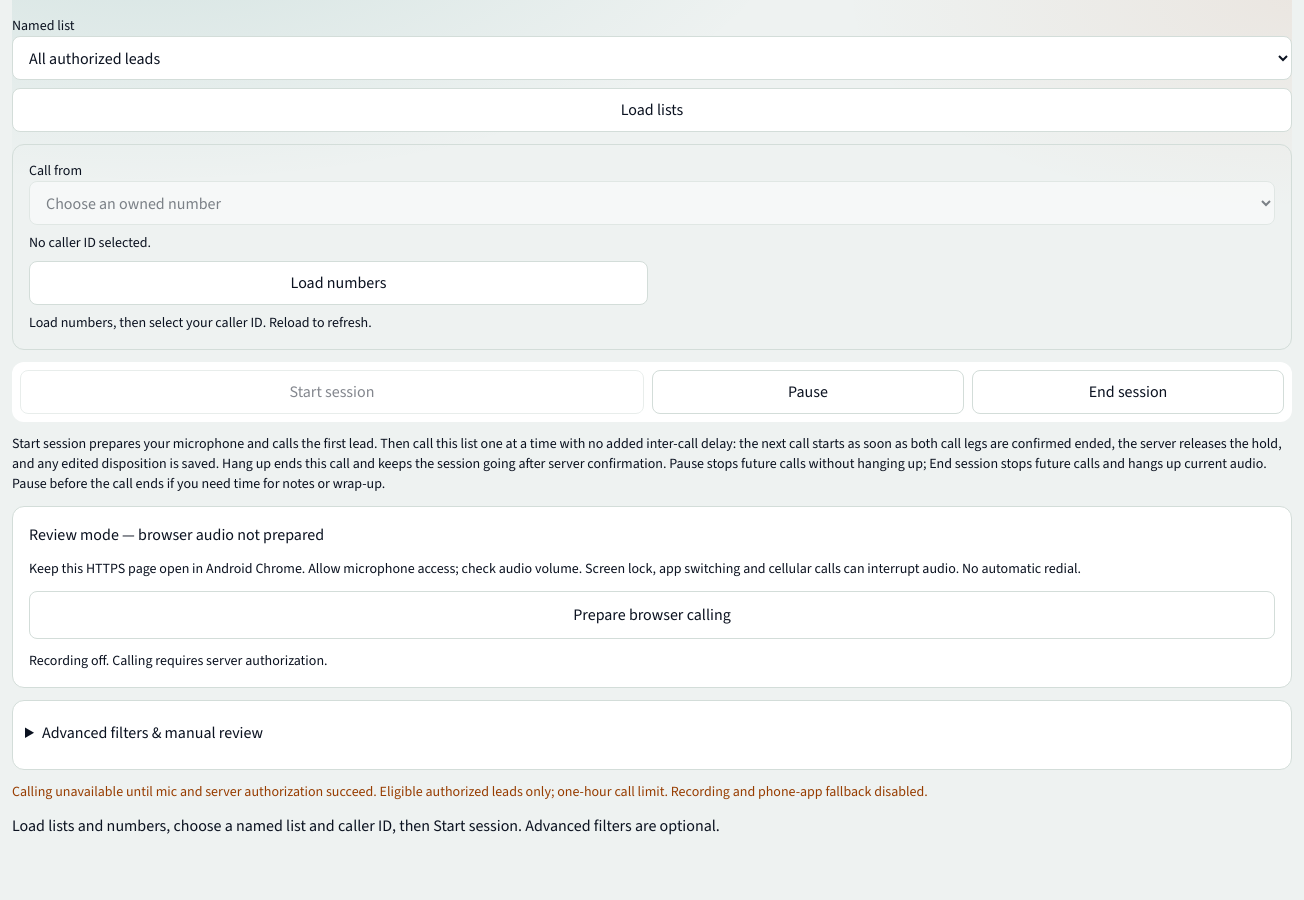
Scenario: shows safe inventory error 401 and allows retry without selecting a fallback
Click the button "Load numbers" at coordinates (338, 283), box [29,261,648,305]
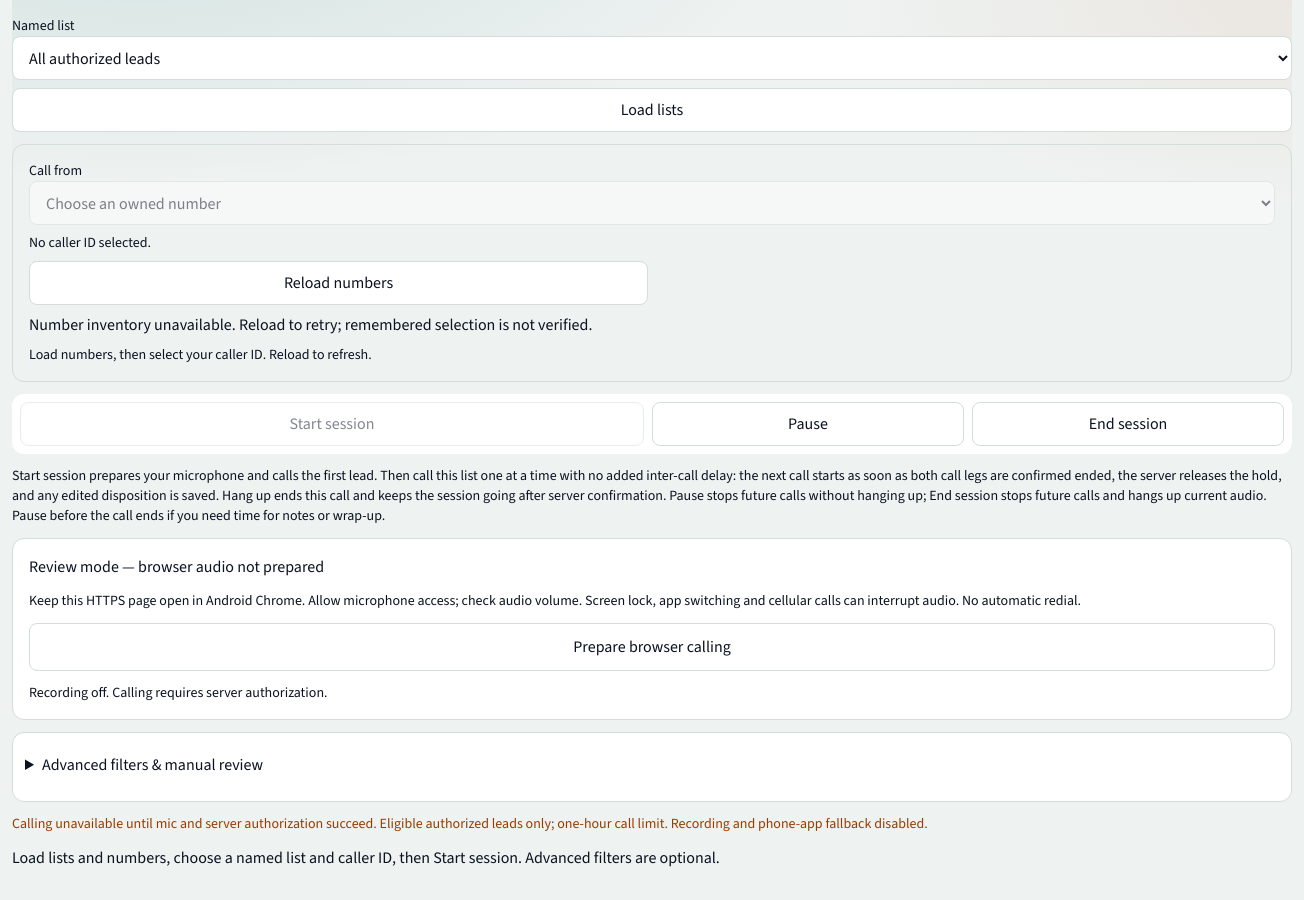
Check: the dropdown labelled "Call from" shows "Choose an owned number", box [29,181,1275,225]
Check: the message shows "Number inventory unavailable. Reload to retry; remembered selection is not verified.", box [29,314,592,335]
Click the button "Reload numbers" at coordinates (338, 283), box [29,261,648,305]
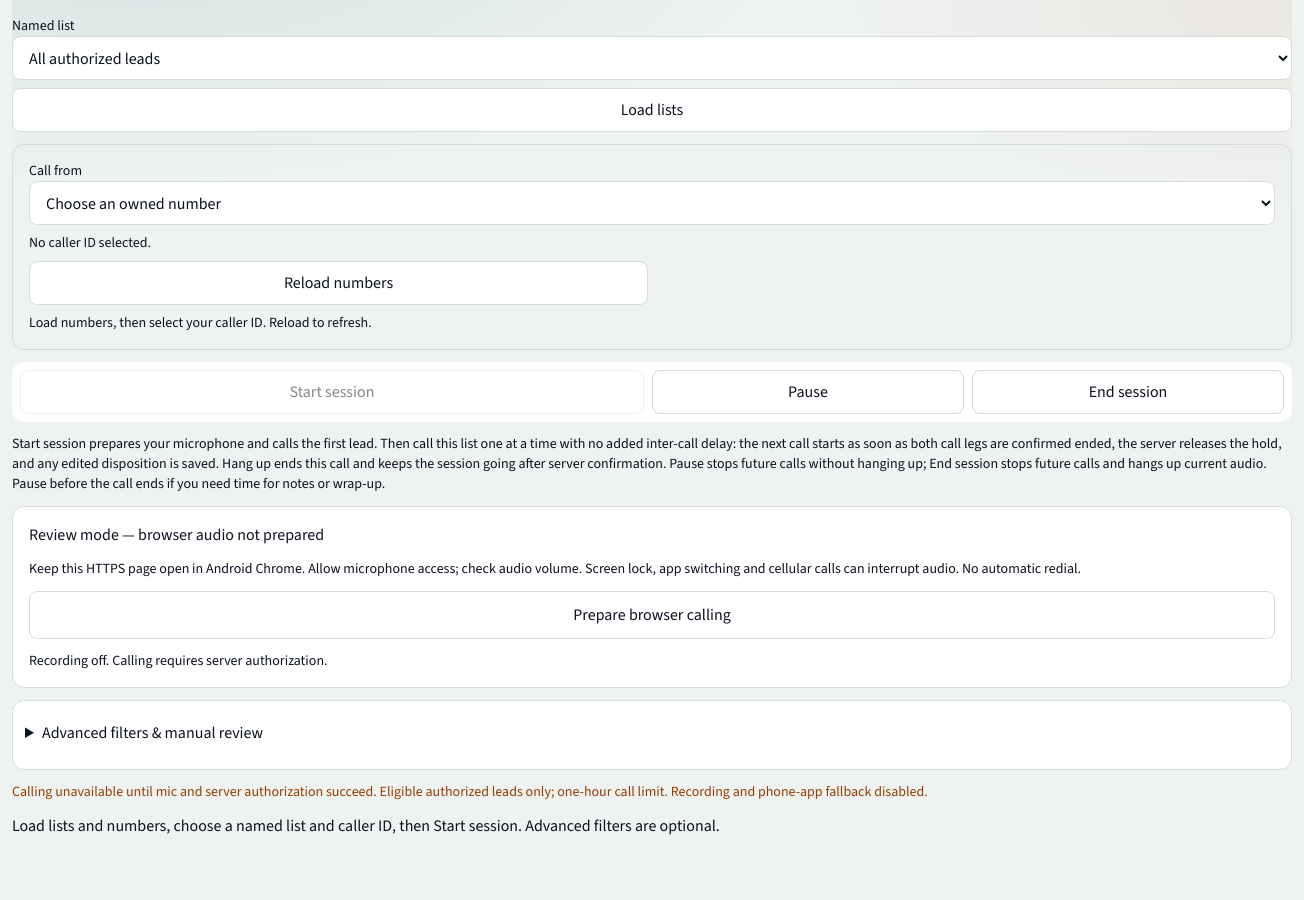
Check: the message is gone
